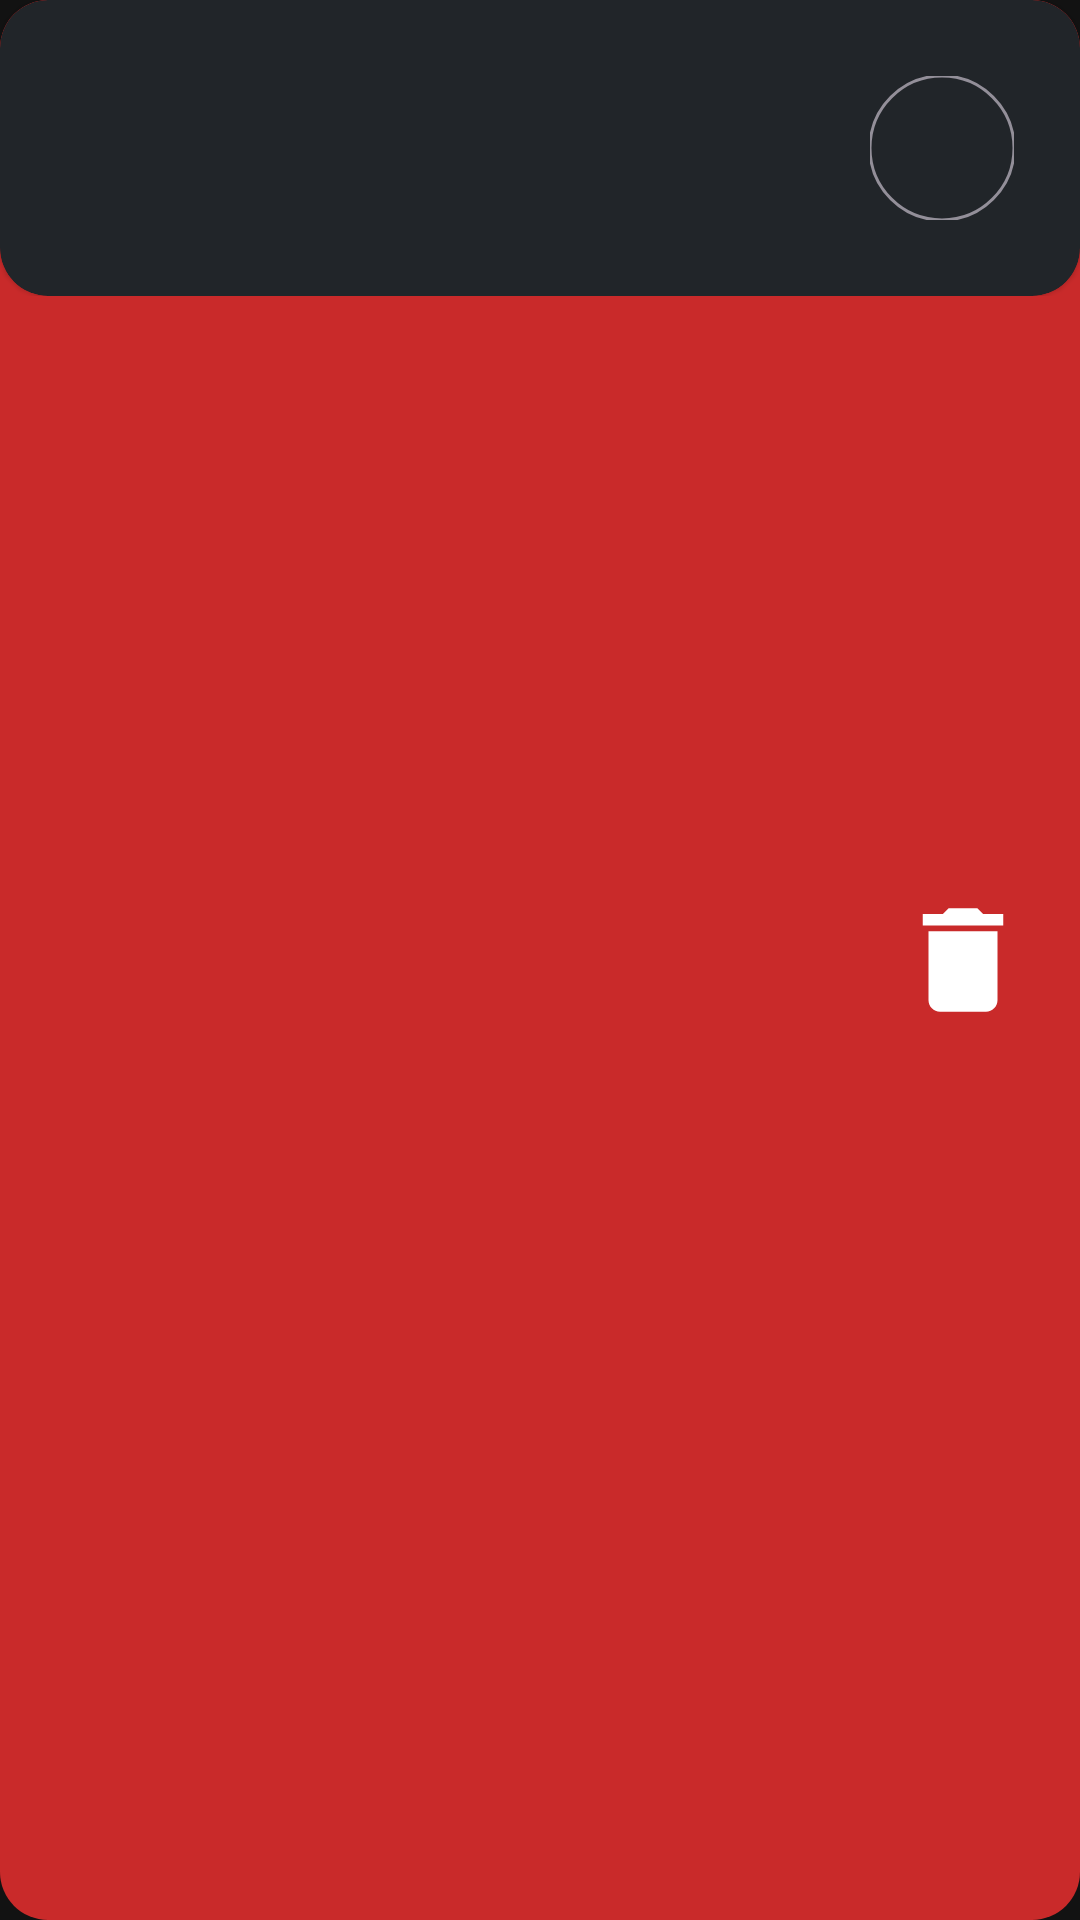

Icons on this 1080×1920 Android screen, each with its box as (x1, y1, x2, y2):
garbage: (922, 908, 1004, 1012)
